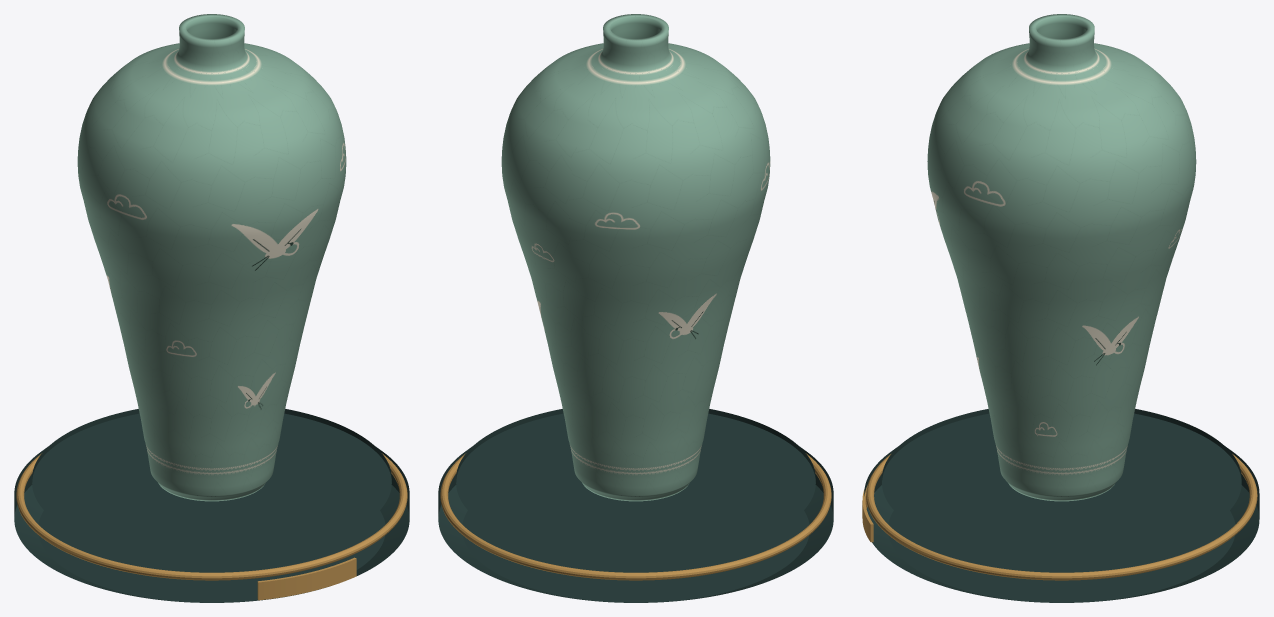
The model's file is korea-celadon.glb.
3 renders of one model, left to right at view 1: azimuth 30°, elevation 25°; view 2: azimuth 150°, elevation 25°; view 3: azimuth 270°, elevation 25°, orthographic.
Visible parts, largest first — view 1: Cloud-and-crane celadon; view 2: Cloud-and-crane celadon; view 3: Cloud-and-crane celadon.
Part boxes in pixels (box(x1,y1,x2,y2)): Cloud-and-crane celadon: box(14, 14, 409, 602); Cloud-and-crane celadon: box(438, 14, 833, 602); Cloud-and-crane celadon: box(862, 14, 1259, 602).
Size of the model in its own units: 2 by 2.8 by 2.01.
Materials: 4 (1 with a texture image).
